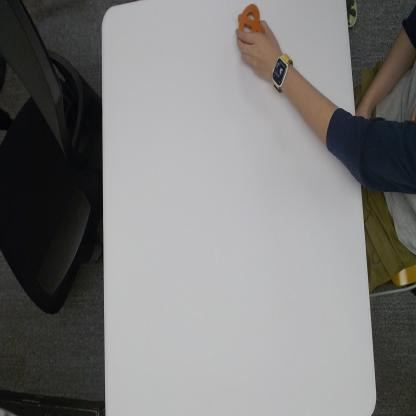Arm: (294, 68, 416, 199)
Hand: (234, 18, 281, 81)
Pretzel: (236, 2, 266, 35)
